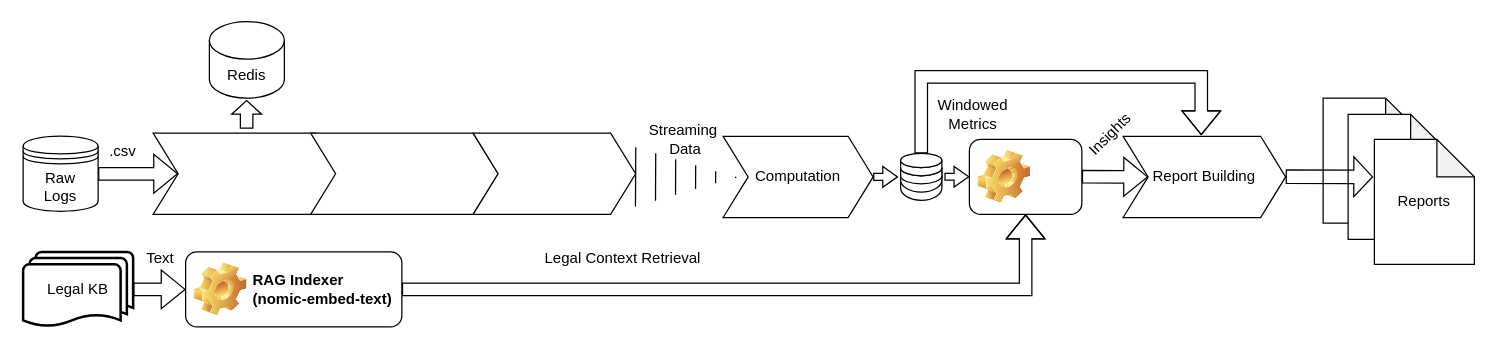
Image size: 1496x350. Some labels were removed from this diagram. The shapes that lost their labels are listed below. From the top down, each one's centre as x and y in pixels, then its label:
(246,173): Format Detection
(403,173): ECS Normalisation
(554,173): Time Windowing
(1025,176): LLM
